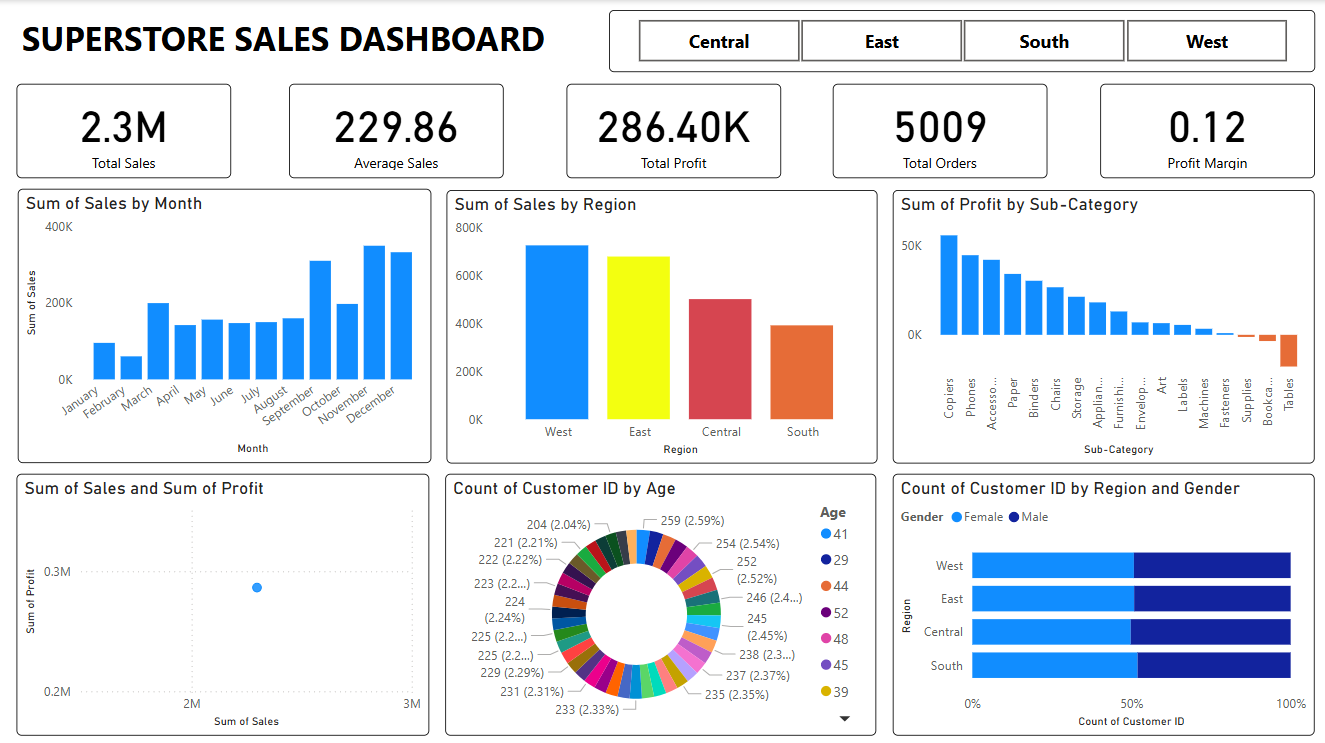

This screenshot's page, from the dashboard's own definition file:
{"tool":"powerbi","page":{"name":"Page 1","canvas":[1280,720],"ordinal":0},"visuals":[{"type":"clusteredColumnChart","fields":{"Category":["Superstore 1.Order Date.Variation.Date Hierarchy.Month"],"Y":["Sum(Superstore 1.Sales)"]},"box":[17.8,182.5,399.3,264.8],"z":0},{"type":"clusteredColumnChart","fields":{"Category":["Superstore 1.Region"],"Y":["Sum(Superstore 1.Sales)"]},"box":[431.4,182.9,415.7,264.3],"z":1000},{"type":"card","fields":{"Values":["Superstore 1.Average Sales"]},"box":[280,81.4,207.1,91.4],"z":2000},{"type":"card","fields":{"Values":["Superstore 1.Total Sales"]},"box":[17.1,81.4,207.1,91.4],"z":3000},{"type":"card","fields":{"Values":["Superstore 1.Total Profit"]},"box":[547.1,81.4,207.1,91.4],"z":4000},{"type":"card","fields":{"Values":["Superstore 1.Total Orders"]},"box":[804.3,81.4,207.1,91.4],"z":5000},{"type":"card","fields":{"Values":["Superstore 1.Profit Margin"]},"box":[1062.9,81.4,207.1,91.4],"z":6000},{"type":"slicer","fields":{"Values":["Superstore 1.Region"]},"box":[588.6,10,681.4,60],"z":7000},{"type":"columnChart","fields":{"Category":["Superstore 1.Sub-Category"],"Y":["Sum(Superstore 1.Profit)"]},"box":[862.9,182.9,407.1,264.3],"z":8000},{"type":"scatterChart","fields":{"X":["Sum(Superstore 1.Sales)"],"Y":["Sum(Superstore 1.Profit)"]},"box":[17.1,457.1,398.6,252.9],"z":9000},{"type":"hundredPercentStackedBarChart","fields":{"Series":["Superstore 1 (2).Gender"],"Category":["Superstore 1 (2).Region"],"Y":["CountNonNull(Superstore 1 (2).Customer ID)"]},"box":[862.9,457.1,407.1,252.9],"z":10000},{"type":"textbox","box":[16.5,9.6,561.2,60.4],"z":11000},{"type":"donutChart","fields":{"Y":["CountNonNull(Superstore 1 (2).Customer ID)"],"Category":["Superstore 1 (2).Age"]},"box":[430.9,456.9,415.8,252.5],"z":12000}]}

Visuals, with their boxes in screenshot pixels (x1, y1, x2, y2), scaled from the page's 1280x720 canvas onto the 1325x743 screenshot:
clusteredColumnChart - Superstore 1.Order Date.Variation.Date Hierarchy.Month x Sum(Superstore 1.Sales): 18, 188, 432, 462
clusteredColumnChart - Superstore 1.Region x Sum(Superstore 1.Sales): 447, 189, 877, 461
card - Superstore 1.Average Sales: 290, 84, 504, 178
card - Superstore 1.Total Sales: 18, 84, 232, 178
card - Superstore 1.Total Profit: 566, 84, 781, 178
card - Superstore 1.Total Orders: 833, 84, 1047, 178
card - Superstore 1.Profit Margin: 1100, 84, 1315, 178
slicer - Superstore 1.Region: 609, 10, 1315, 72
columnChart - Superstore 1.Sub-Category x Sum(Superstore 1.Profit): 893, 189, 1315, 461
scatterChart - Sum(Superstore 1.Sales) x Sum(Superstore 1.Profit): 18, 472, 430, 733
hundredPercentStackedBarChart - Superstore 1 (2).Gender x Superstore 1 (2).Region: 893, 472, 1315, 733
textbox: 17, 10, 598, 72
donutChart - CountNonNull(Superstore 1 (2).Customer ID) x Superstore 1 (2).Age: 446, 471, 876, 732
